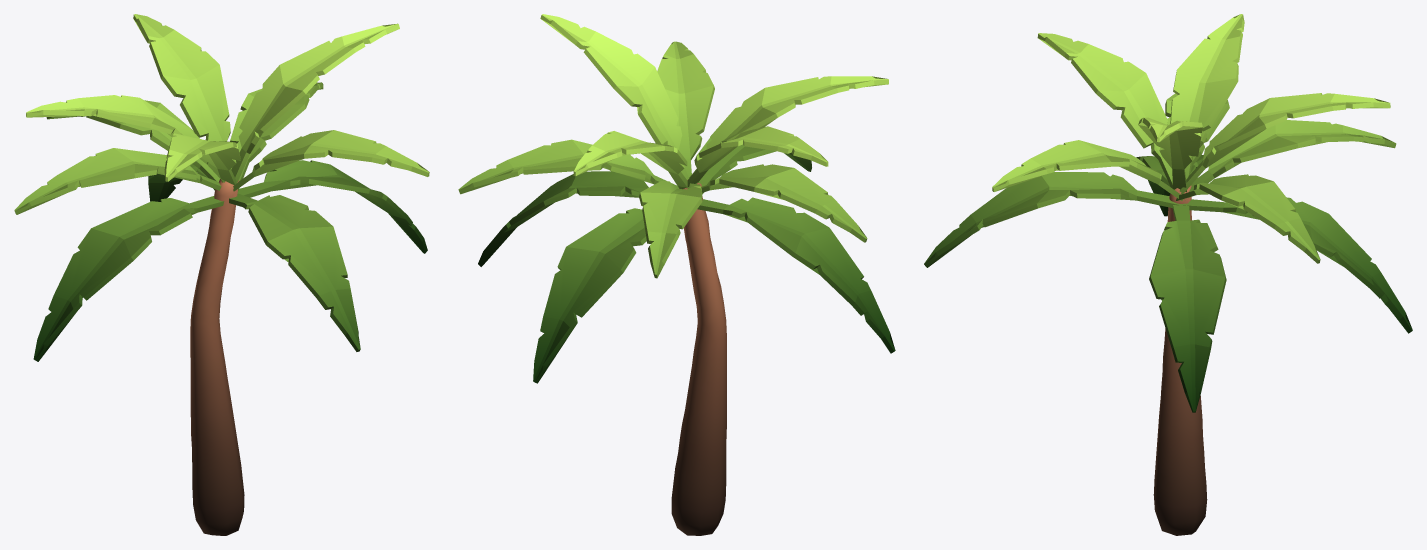
The model's file is PalmTrees_1.fbx.
3 renders of one model, left to right at view 1: azimuth 30°, elevation 25°; view 2: azimuth 150°, elevation 25°; view 3: azimuth 270°, elevation 25°, orthographic.
Visible parts, largest first — view 1: PalmTrees_2; view 2: PalmTrees_2; view 3: PalmTrees_2.
Boxes of the visible parts, x1,y1,x2,y2 form: PalmTrees_2: [14, 14, 429, 535]; PalmTrees_2: [458, 14, 895, 535]; PalmTrees_2: [924, 14, 1412, 535].
Bounding box in the file's own units: 771 × 864 × 797.
